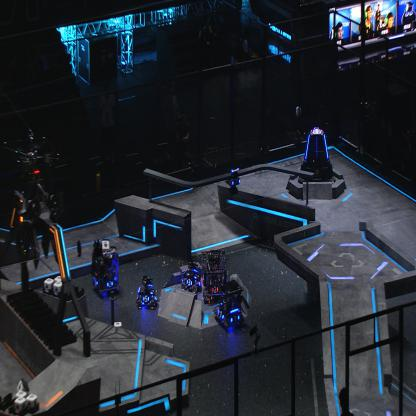car: (212, 278, 245, 331), (91, 241, 120, 296), (201, 249, 227, 305), (180, 260, 205, 294), (136, 273, 158, 311)
